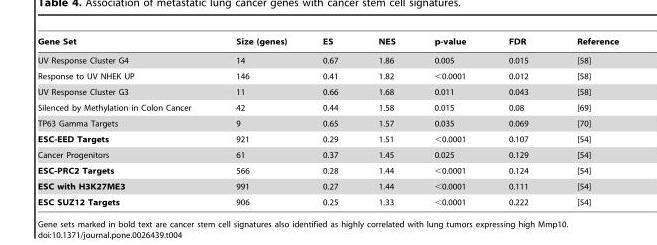table: (37, 36, 618, 206)
table column: (37, 36, 212, 206), (212, 36, 304, 206), (414, 36, 486, 206), (486, 36, 552, 206), (552, 36, 618, 206), (357, 36, 414, 206), (304, 36, 357, 206)
table column header: (37, 36, 618, 50)
table row: (37, 50, 618, 68), (37, 83, 618, 99), (37, 99, 618, 115), (37, 115, 618, 131), (37, 146, 618, 162), (37, 162, 618, 178), (37, 178, 618, 194), (37, 68, 618, 83), (37, 131, 618, 146), (37, 36, 618, 50), (37, 194, 618, 206)
